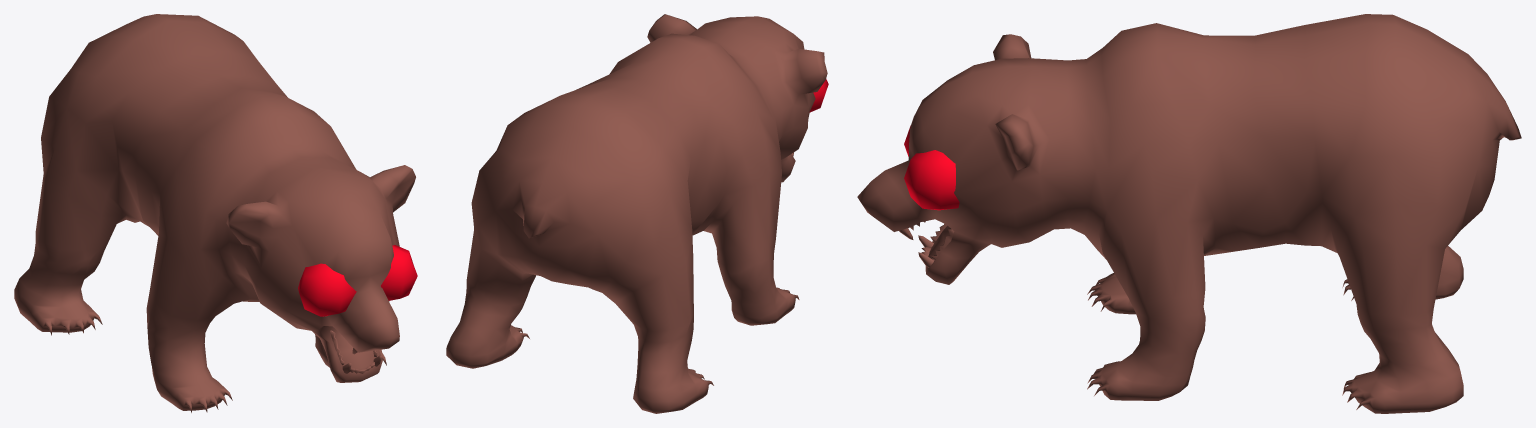
Rendered from Zombear_T_003.fbx.
3 views of the same model, side by side, from view 1: azimuth 30°, elevation 25°; view 2: azimuth 150°, elevation 25°; view 3: azimuth 270°, elevation 25° (orthographic). The views are drawn at different scales.
Visible parts, largest first — view 1: BEAR, Eear_Eyes.001; view 2: BEAR; view 3: BEAR, Eear_Eyes.001.
Boxes of the visible parts, box(x1,y1,x2,y2) form: BEAR: box(14, 14, 415, 412); Eear_Eyes.001: box(298, 245, 417, 316); BEAR: box(446, 14, 827, 413); BEAR: box(857, 14, 1521, 413); Eear_Eyes.001: box(904, 125, 959, 210).
Size of the model in its own units: 2.16 by 2.33 by 4.35.
